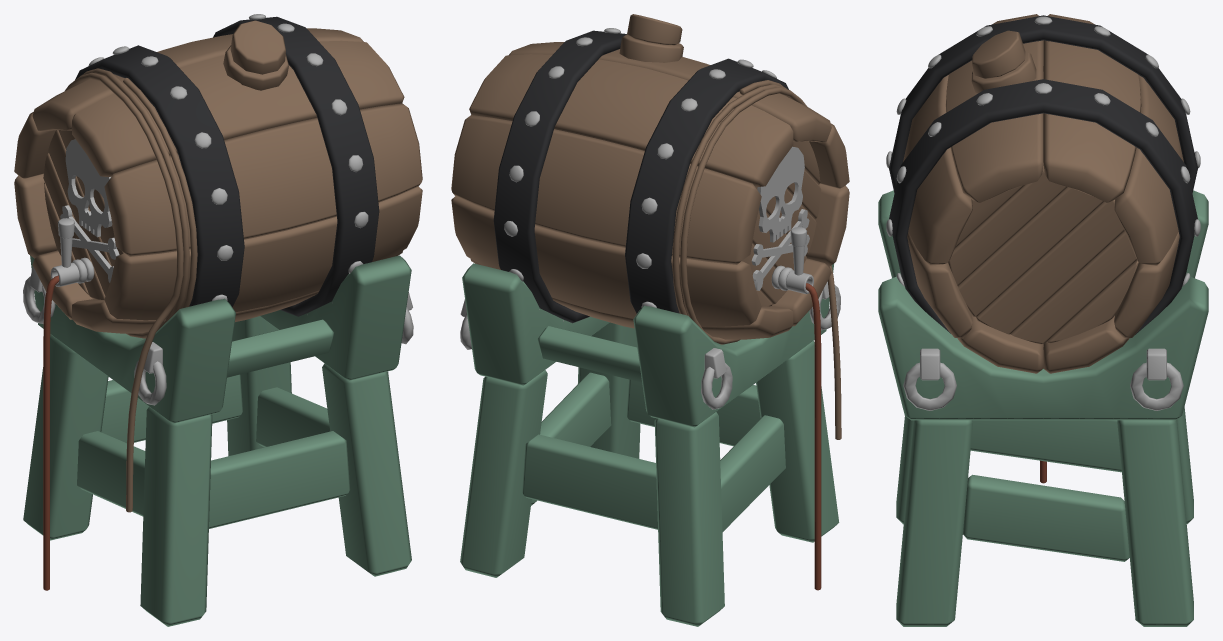
The model's file is RumBarrel02.fbx.
3 renders of one model, left to right at view 1: azimuth 30°, elevation 25°; view 2: azimuth 150°, elevation 25°; view 3: azimuth 270°, elevation 25°, orthographic. The views are drawn at different scales.
Parts seen in each view (by area): view 1: M_RumBarrel32, M_RumBarrel19, M_RumBarrel11, M_RumBarrel25, S_RumBarrel1, M_RumBarrel16, M_RumBarrel18, S_RumBarrel5, M_RumBarrel10, M_RumBarrel7, M_RumBarrel12, S_RumBarrel2 (+21 smaller); view 2: M_RumBarrel21, M_RumBarrel20, M_RumBarrel10, M_RumBarrel22, S_RumBarrel1, M_RumBarrel8, S_RumBarrel5, M_RumBarrel18, M_RumBarrel11, M_RumBarrel9, M_RumBarrel12, S_RumBarrel2 (+20 smaller); view 3: M_RumBarrel12, S_RumBarrel5, M_RumBarrel16, M_RumBarrel8, M_RumBarrel14, M_RumBarrel20, S_RumBarrel1, M_RumBarrel19, M_RumBarrel13, M_RumBarrel28, M_RumBarrel21, M_RumBarrel32 (+18 smaller).
Boxes of the visible parts, x1,y1,x2,y2 form: M_RumBarrel32: (104,103,422,256); M_RumBarrel19: (72,40,404,177); M_RumBarrel11: (140,406,212,626); M_RumBarrel25: (104,186,422,320); S_RumBarrel1: (75,45,244,306); M_RumBarrel16: (322,363,411,576); M_RumBarrel18: (30,255,235,423); S_RumBarrel5: (213,16,379,316); M_RumBarrel10: (23,334,108,540); M_RumBarrel7: (209,431,350,528); M_RumBarrel12: (260,255,411,380); S_RumBarrel2: (65,68,197,512); M_RumBarrel21: (451,115,761,264); M_RumBarrel20: (469,54,793,187); M_RumBarrel10: (654,412,724,626); M_RumBarrel22: (451,196,761,326); S_RumBarrel1: (625,58,788,313); M_RumBarrel8: (460,370,547,577); S_RumBarrel5: (493,30,626,323); M_RumBarrel18: (633,263,834,427); M_RumBarrel11: (756,341,839,542); M_RumBarrel9: (522,434,657,529); M_RumBarrel12: (462,263,609,385); S_RumBarrel2: (672,80,841,439); M_RumBarrel12: (878,276,1208,420); S_RumBarrel5: (889,79,1197,335); M_RumBarrel16: (896,420,972,626); M_RumBarrel8: (1117,419,1193,626); M_RumBarrel14: (963,474,1129,561); M_RumBarrel20: (1043,14,1141,202); S_RumBarrel1: (889,15,1197,193); M_RumBarrel19: (945,14,1043,202); M_RumBarrel13: (970,420,1121,472); M_RumBarrel28: (975,200,1124,334); M_RumBarrel21: (1114,75,1183,265); M_RumBarrel32: (903,75,972,265).
Size of the model in its own units: 412 by 645 by 357.
